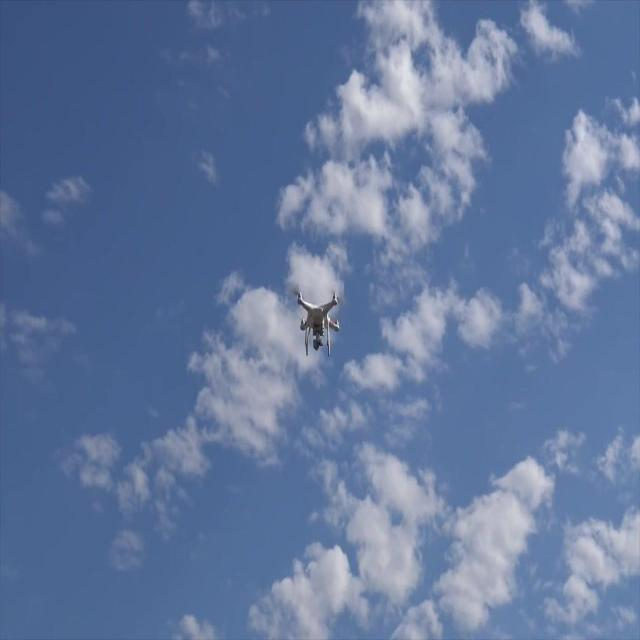drone: (295, 286, 343, 360)
